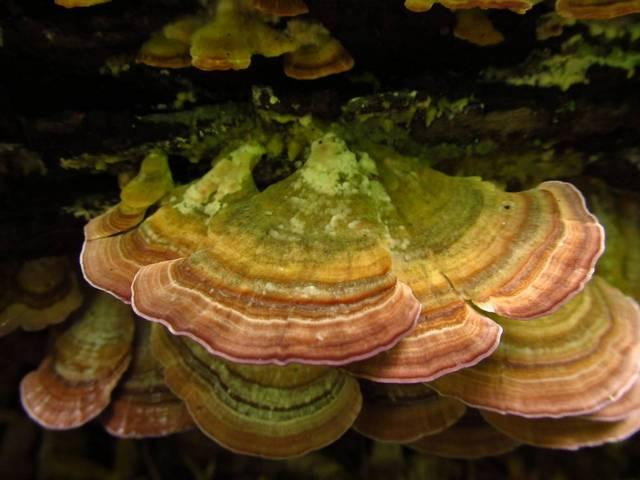Non-edible Mushroom: (75, 129, 639, 460)
